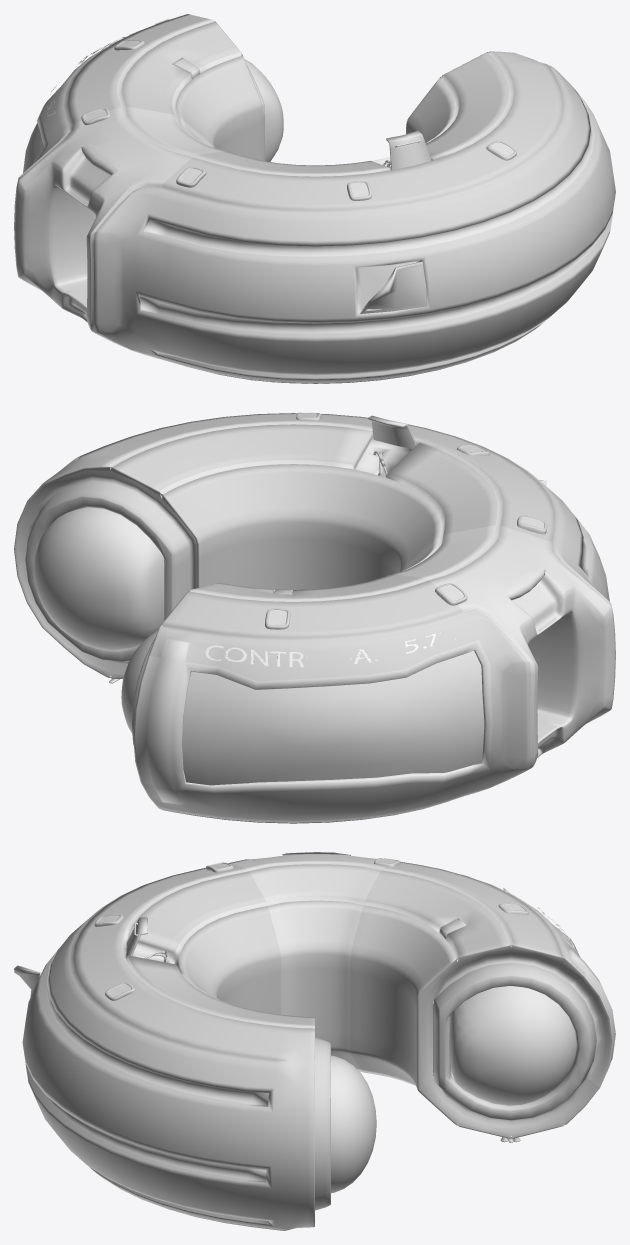
The model's file is SpaceShip.fbx.
3 views of the same model, one above another, from view 1: azimuth 30°, elevation 25°; view 2: azimuth 150°, elevation 25°; view 3: azimuth 270°, elevation 25° (orthographic). The views are drawn at different scales.
Visible parts, largest first — view 1: SpaceShip; view 2: SpaceShip; view 3: SpaceShip.
Boxes of the visible parts, left/top/right/bottom form: SpaceShip: left=14, top=14, right=615, bottom=383; SpaceShip: left=14, top=412, right=615, bottom=823; SpaceShip: left=14, top=852, right=615, bottom=1230.
Size of the model in its own units: 306 by 125 by 310.
